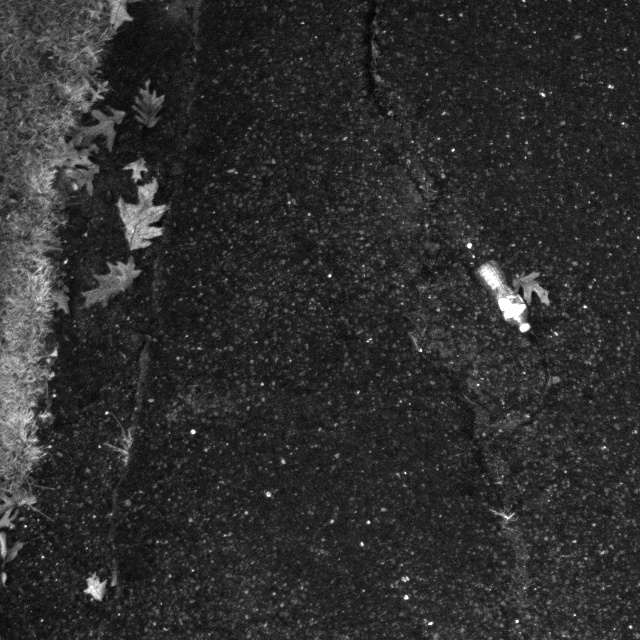bottle: (464, 266, 533, 334)
